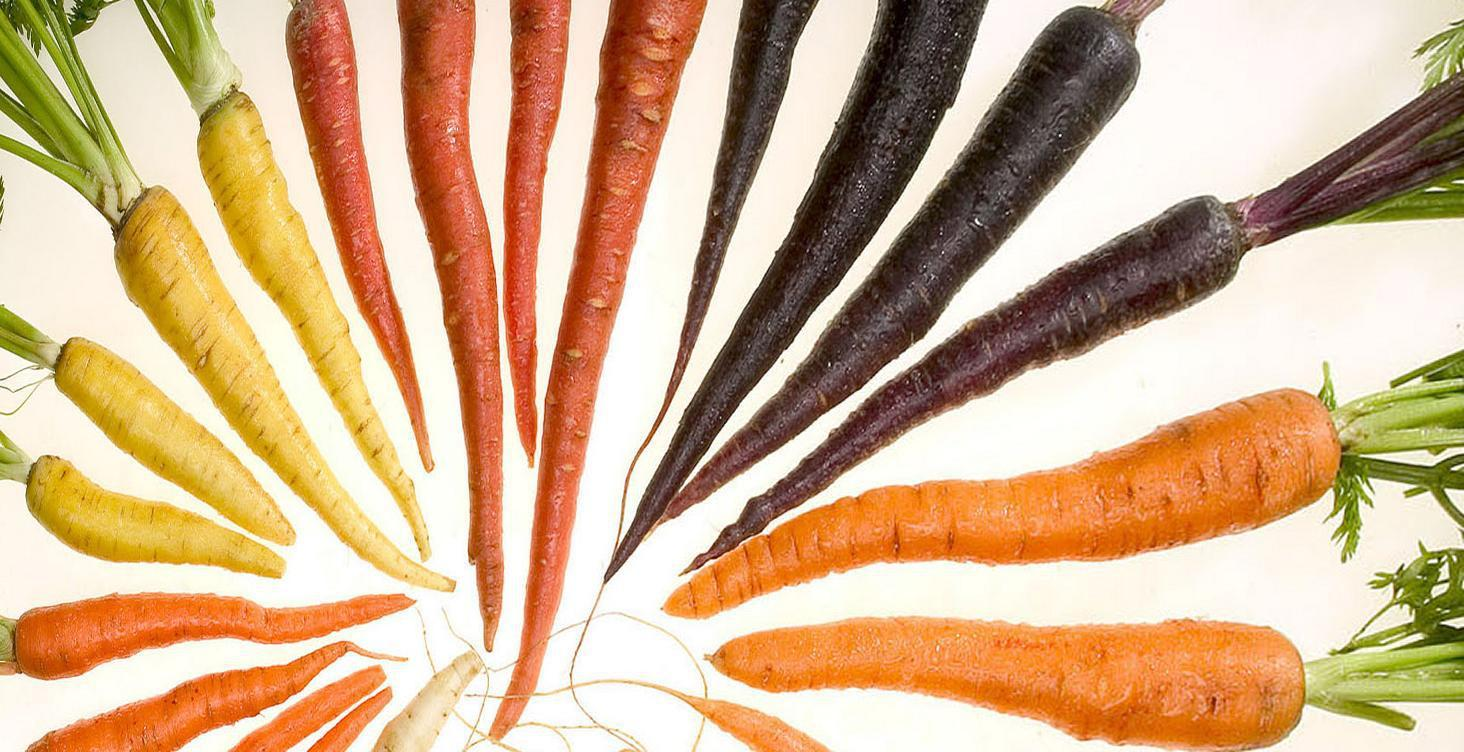carrot: (951, 372, 1464, 752), (690, 617, 1464, 752), (3, 587, 383, 752), (666, 673, 889, 752)
